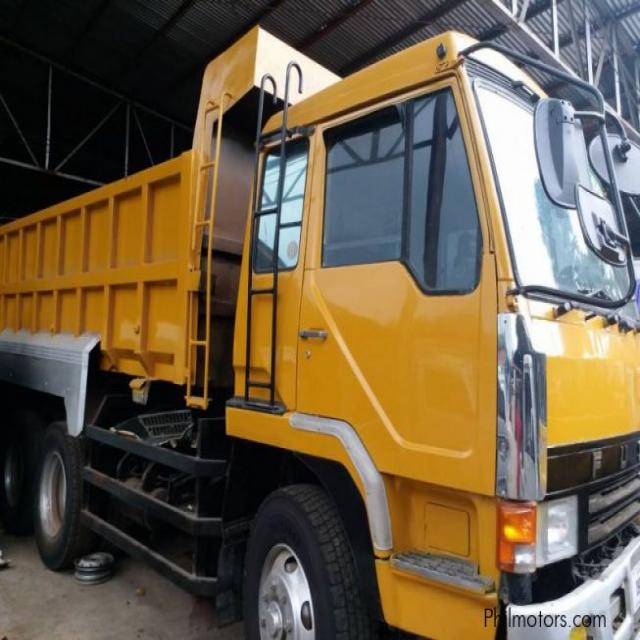Truck: (5, 25, 639, 639)
